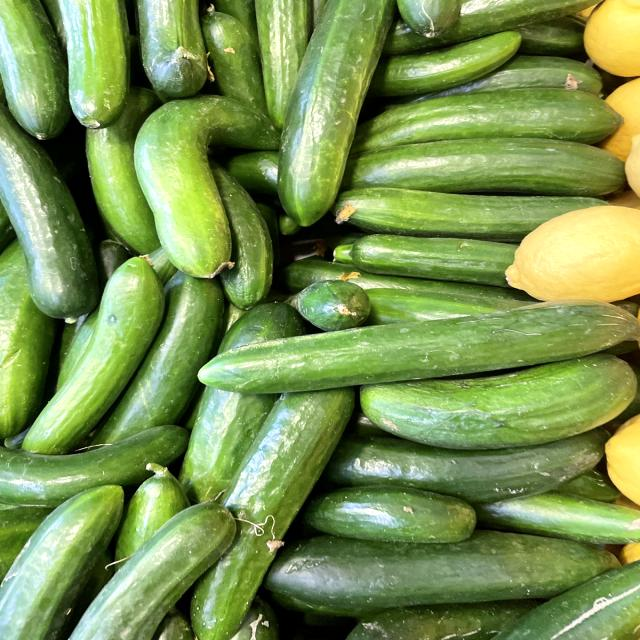cucumber: (196, 296, 640, 400), (0, 243, 168, 465), (257, 0, 413, 237)
